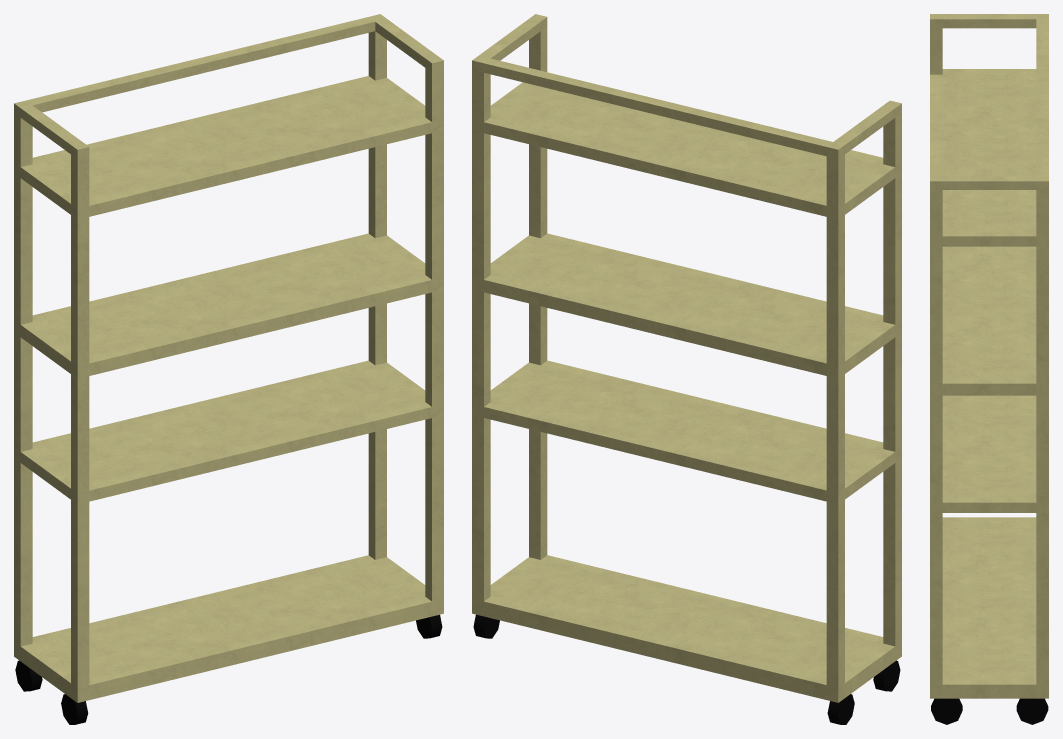
File: LGSeochoB1ConvenienceStoreShelfWheel.fbx
3 renders of one model, left to right at view 1: azimuth 30°, elevation 25°; view 2: azimuth 150°, elevation 25°; view 3: azimuth 270°, elevation 25°, orthographic. The views are drawn at different scales.
Visible parts, largest first — view 1: LGSeochoB1ConvenienceStorePlastic, LGSeochoB1Metal; view 2: LGSeochoB1ConvenienceStorePlastic, LGSeochoB1Metal; view 3: LGSeochoB1ConvenienceStorePlastic, LGSeochoB1Metal.
Boxes of the visible parts, <box> form: LGSeochoB1ConvenienceStorePlastic: <box>14,14,443,702</box>; LGSeochoB1Metal: <box>15,614,442,724</box>; LGSeochoB1ConvenienceStorePlastic: <box>472,14,901,702</box>; LGSeochoB1Metal: <box>473,614,900,724</box>; LGSeochoB1ConvenienceStorePlastic: <box>930,14,1048,698</box>; LGSeochoB1Metal: <box>931,698,1048,724</box>.
Size of the model in its own units: 100 by 152 by 30.
2 materials, 2 textured.
